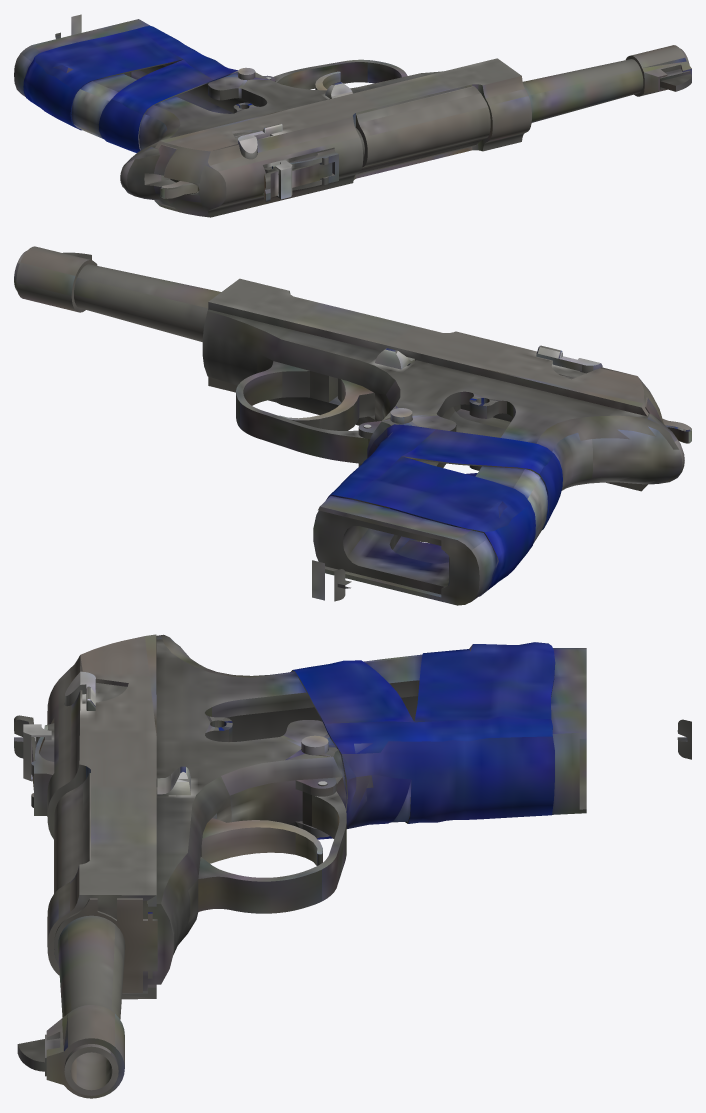
File: earth_pistol.glb
3 renders of one model, top to bottom at view 1: azimuth 30°, elevation 25°; view 2: azimuth 150°, elevation 25°; view 3: azimuth 270°, elevation 25°, orthographic. The views are drawn at different scales.
Visible parts, largest first — view 1: earth_pistol; view 2: earth_pistol; view 3: earth_pistol.
Part boxes in pixels (x1=…): earth_pistol: x1=14, y1=14, x2=691, y2=217; earth_pistol: x1=14, y1=246, x2=691, y2=605; earth_pistol: x1=14, y1=634, x2=691, y2=1098.
Size of the model in its own units: 0.2 by 0.0263 by 0.1381.
Materials: 1 (1 with a texture image).
